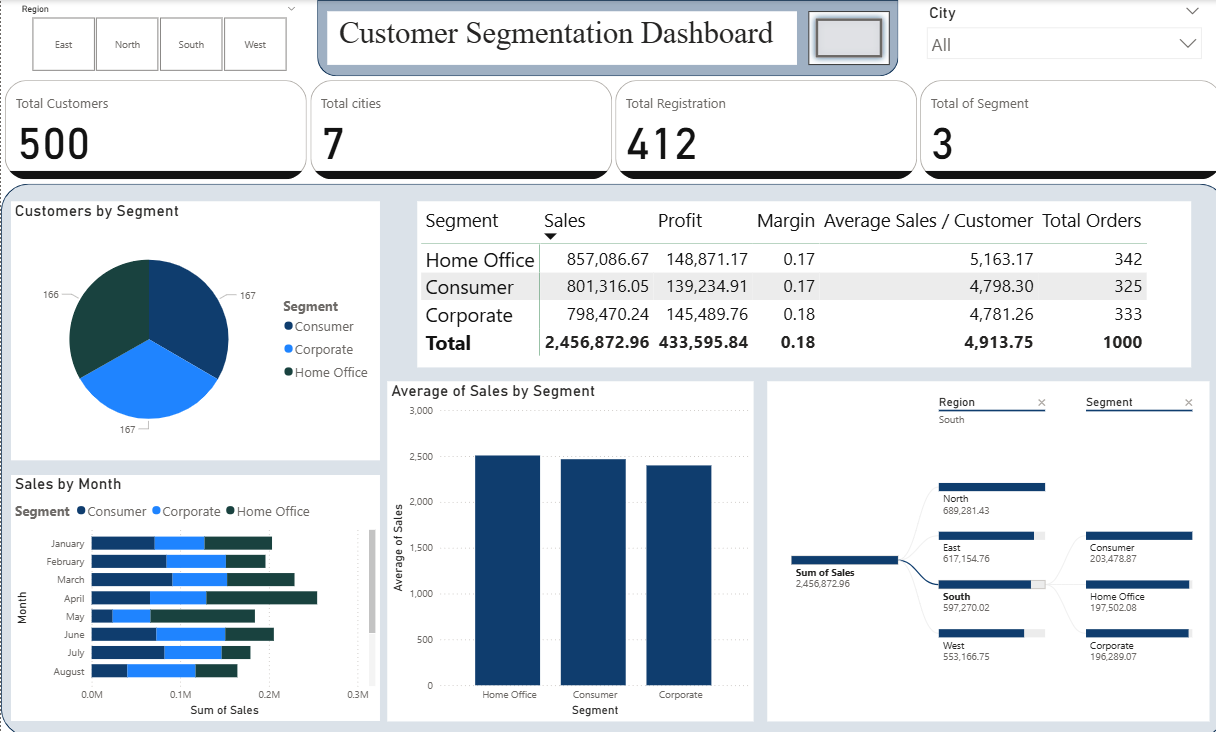

What the dashboard file says about the page in this screenshot:
{"tool":"powerbi","page":{"name":"Page 2","canvas":[1500,900],"ordinal":1},"visuals":[{"type":"shape","box":[386.7,0,710.8,93.2],"z":0},{"type":"textbox","box":[398.9,13.8,574.7,65.7],"z":1000},{"type":"cardVisual","fields":{"Data":["Customer_Data.Total Customers","Count(Customer_Data.City)","Count(Customer_Data.RegistrationDate)","Count(Customer_Data.Segment)"]},"box":[0,93.2,1499.5,131.5],"z":2000},{"type":"shape","box":[0,224.7,1499.5,675.6],"z":3000},{"type":"barChart","title":" Sales by Month","fields":{"Category":["Customer_Data.RegistrationDate.Variation.Date Hierarchy.Month"],"Y":["Sum(Order.Sales)"],"Series":["Customer_Data.Segment"]},"box":[12.2,580.8,450.9,301.1],"z":4000},{"type":"pieChart","fields":{"Y":["CountNonNull(Customer_Data.CustomerID)"],"Category":["Customer_Data.Segment"]},"box":[12.2,246.1,450.9,316.4],"z":5000},{"type":"columnChart","fields":{"Category":["Customer_Data.Segment"],"Y":["Avg(Order.Sales)"]},"box":[472.3,466.2,447.9,415.8],"z":6000},{"type":"decompositionTreeVisual","fields":{"Analyze":["Sum(Order.Sales)"],"ExplainBy":["Order.Region","Customer_Data.Segment"]},"box":[937,466.2,541.1,415.8],"z":7000},{"type":"pivotTable","fields":{"Rows":["Customer_Data.Segment"],"Values":["Sum(Order.Sales)","Sum(Order.Profit)","Order.Profit Margin","Customer_Data.Average Sales per Customer","Order.Order Count"]},"box":[509,246.1,946.2,203.3],"z":8000},{"type":"slicer","fields":{"Values":["Customer_Data.City"]},"box":[1121.9,0,356.1,93.2],"z":9000},{"type":"slicer","fields":{"Values":["Order.Region"]},"box":[12.2,0,360.7,93.2],"z":10000},{"type":"actionButton","box":[987.4,13.8,99.4,65.7],"z":11000}]}

Visuals, with their boxes in screenshot pixels (x1, y1, x2, y2), scaled from the page's 1500x900 canvas onto the 1216x732 screenshot:
shape: bbox=[313, 0, 890, 76]
textbox: bbox=[323, 11, 789, 65]
cardVisual - Customer_Data.Total Customers x Count(Customer_Data.City): bbox=[0, 76, 1215, 183]
shape: bbox=[0, 183, 1215, 731]
" Sales by Month" barChart: bbox=[10, 472, 375, 717]
pieChart - CountNonNull(Customer_Data.CustomerID) x Customer_Data.Segment: bbox=[10, 200, 375, 458]
columnChart - Customer_Data.Segment x Avg(Order.Sales): bbox=[383, 379, 746, 717]
decompositionTreeVisual - Sum(Order.Sales) x Order.Region: bbox=[760, 379, 1198, 717]
pivotTable - Customer_Data.Segment x Sum(Order.Sales): bbox=[413, 200, 1180, 366]
slicer - Customer_Data.City: bbox=[909, 0, 1198, 76]
slicer - Order.Region: bbox=[10, 0, 302, 76]
actionButton: bbox=[800, 11, 881, 65]
